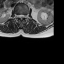CCS_normal: (20, 12, 22, 22)
LFS_normal: (24, 12, 26, 19)
LLS_normal: (22, 12, 24, 19)
RFS_normal: (16, 12, 18, 19)
RLS_normal: (18, 12, 20, 19)
